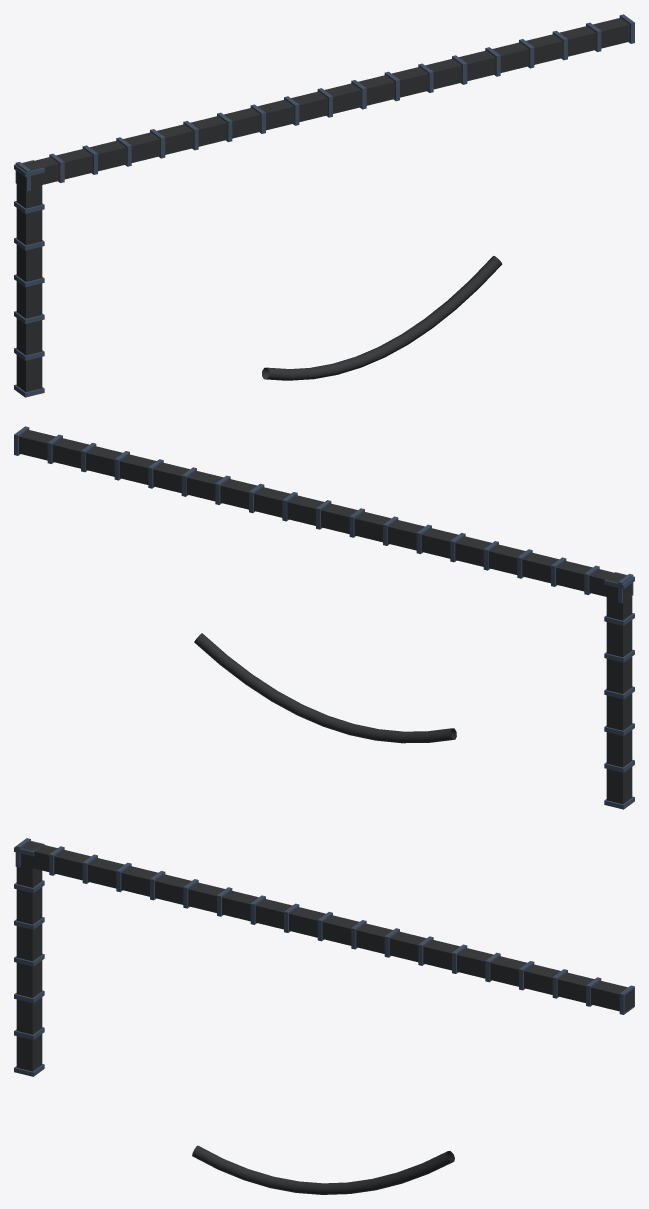
Rendered from ak1_duct.obj.
The picture shows the model from 3 angles, top to bottom: view 1: azimuth 30°, elevation 25°; view 2: azimuth 150°, elevation 25°; view 3: azimuth 330°, elevation 25°; orthographic projection.
Visible parts, largest first — view 1: ak1_duct; view 2: ak1_duct; view 3: ak1_duct.
Part boxes in pixels (x1,y1,x2,y2): ak1_duct: [14, 14, 634, 397]; ak1_duct: [14, 426, 634, 809]; ak1_duct: [14, 838, 634, 1194].
Bounding box in the file's own units: 4.5 × 1.79 × 0.5619.
